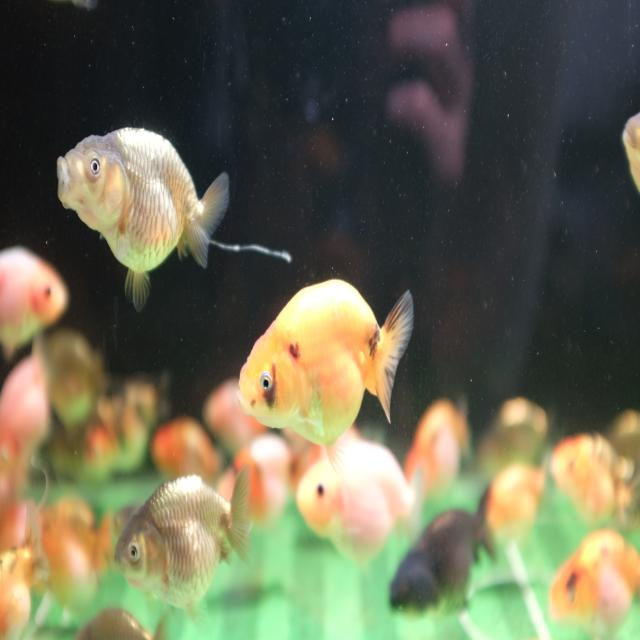Tilapia: (56, 125, 292, 312), (237, 277, 414, 448), (113, 460, 254, 635), (296, 439, 424, 568), (387, 482, 502, 624), (548, 527, 640, 637), (549, 430, 640, 528), (0, 241, 70, 357)
